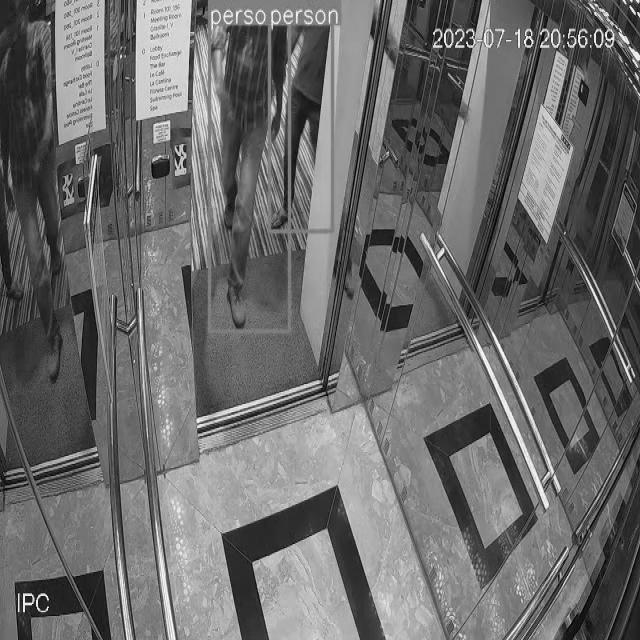person: (207, 23, 290, 333), (270, 27, 333, 236)
